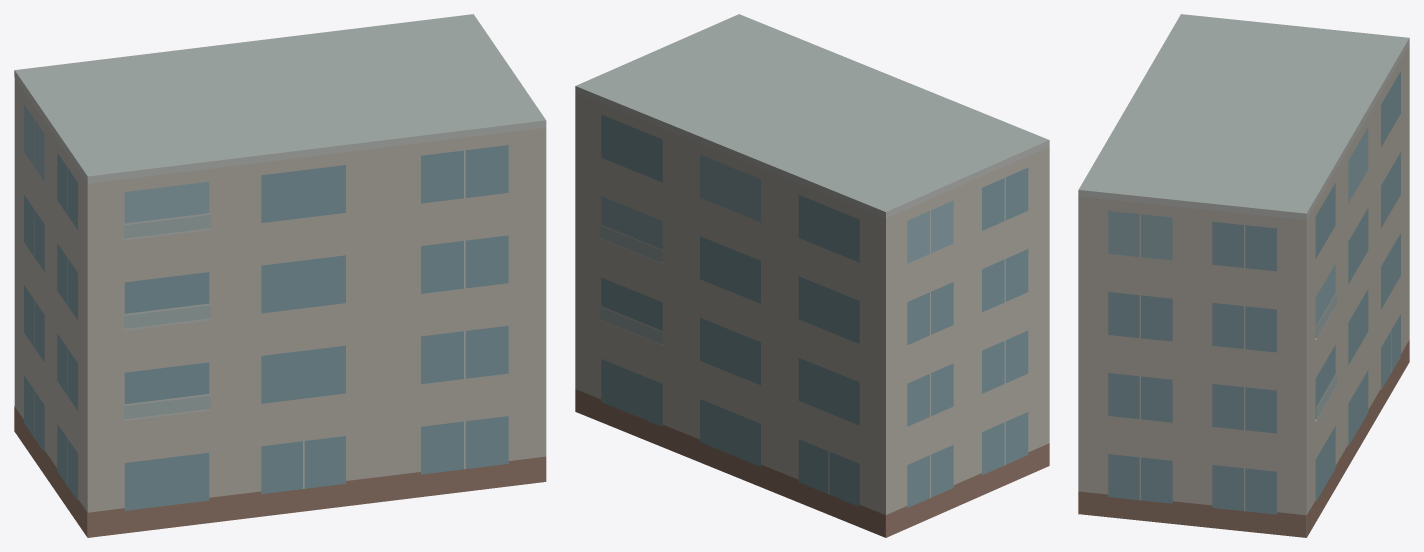
Rendered from residential-20a50049-2baf-4c75-bd8b-f2a2ab9b4979.glb.
The picture shows the model from 3 angles, left to right: view 1: azimuth 30°, elevation 25°; view 2: azimuth 150°, elevation 25°; view 3: azimuth 270°, elevation 25°; orthographic projection. The views are drawn at different scales.
Parts seen in each view (by area): view 1: residential-20a50049-2baf-4c75-bd8b-f2a2ab9b4979.tmp; view 2: residential-20a50049-2baf-4c75-bd8b-f2a2ab9b4979.tmp; view 3: residential-20a50049-2baf-4c75-bd8b-f2a2ab9b4979.tmp.
Part boxes in pixels (x1,y1,x2,y2): residential-20a50049-2baf-4c75-bd8b-f2a2ab9b4979.tmp: (14, 14, 546, 537); residential-20a50049-2baf-4c75-bd8b-f2a2ab9b4979.tmp: (575, 14, 1049, 537); residential-20a50049-2baf-4c75-bd8b-f2a2ab9b4979.tmp: (1078, 14, 1409, 537).
Bounding box in the file's own units: 16.12 × 12.2 × 11.3.
